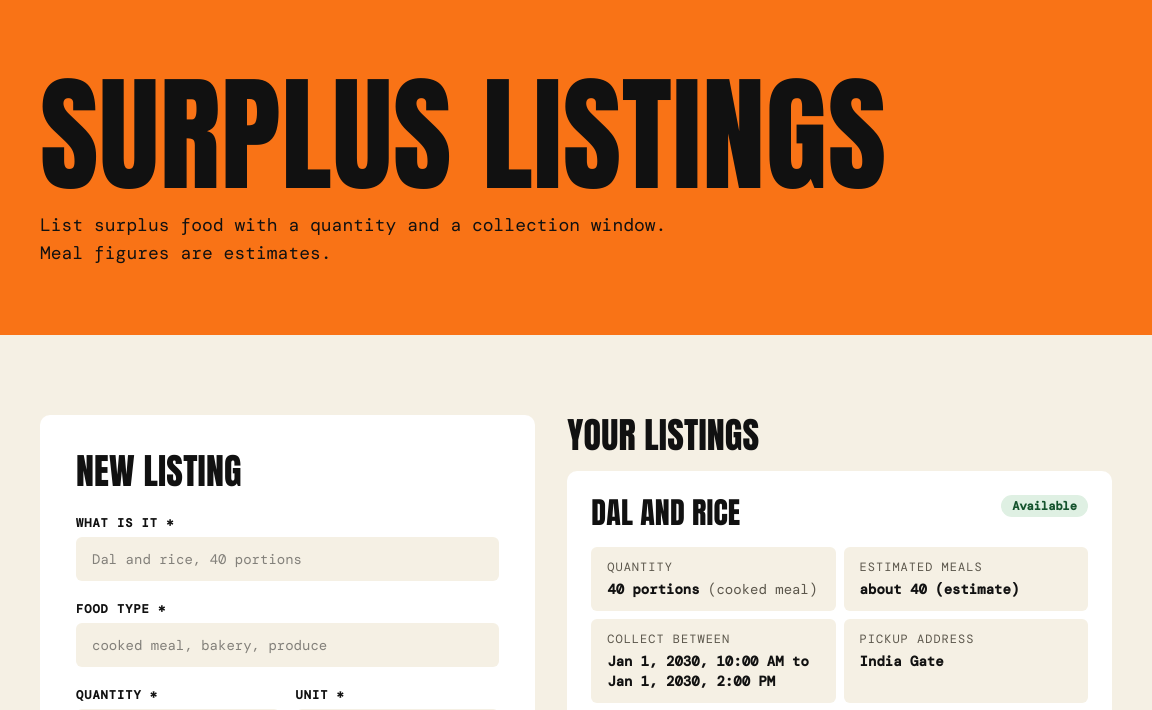
creating a listing › rejects out-of-range coordinates
Type "Rice" into the field labelled "What is it *".
click(288, 559); type("Rice")  # box [76,537,499,581]
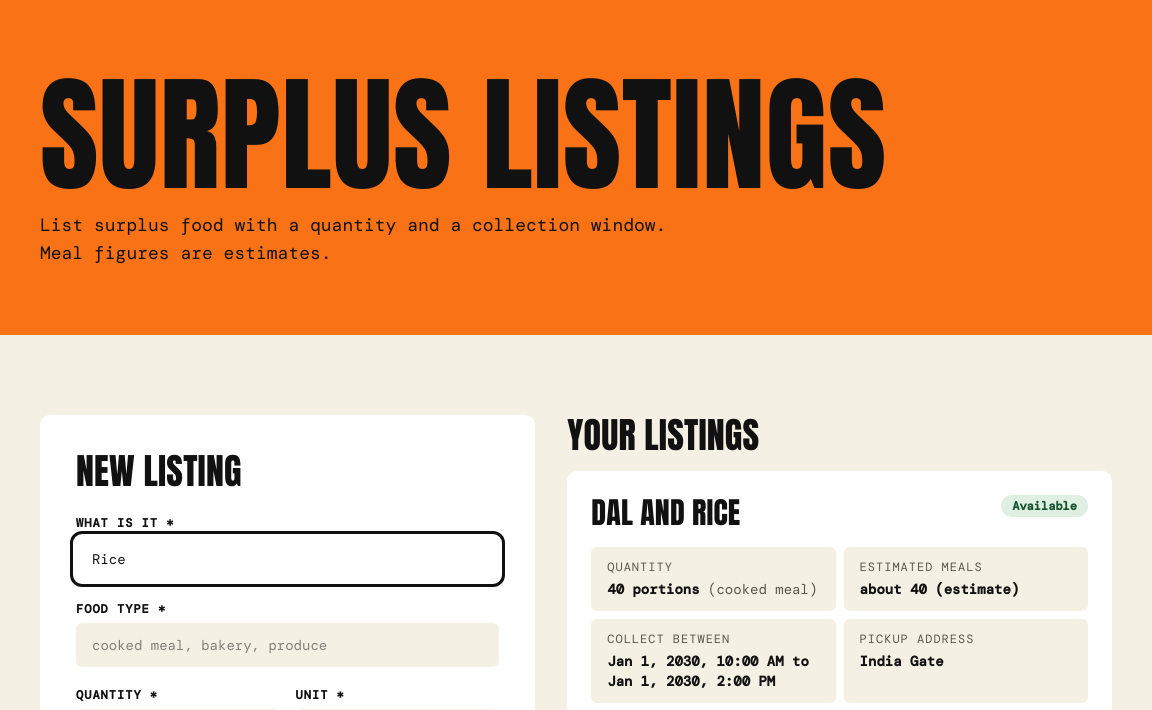
Type "cooked meal" into the field labelled "Food type *".
click(288, 645); type("cooked meal")  # box [76,623,499,667]
(page scrolled)
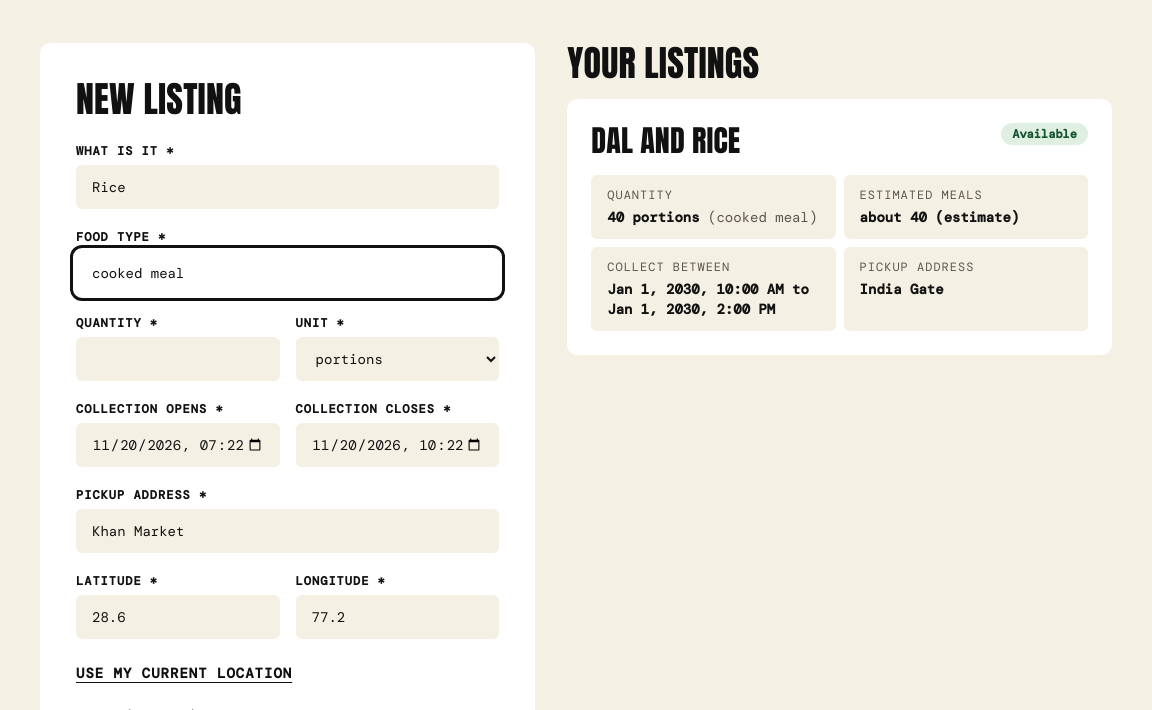
Type "10" into the number field labelled "Quantity *".
click(178, 359); type("10")  # box [76,337,280,381]
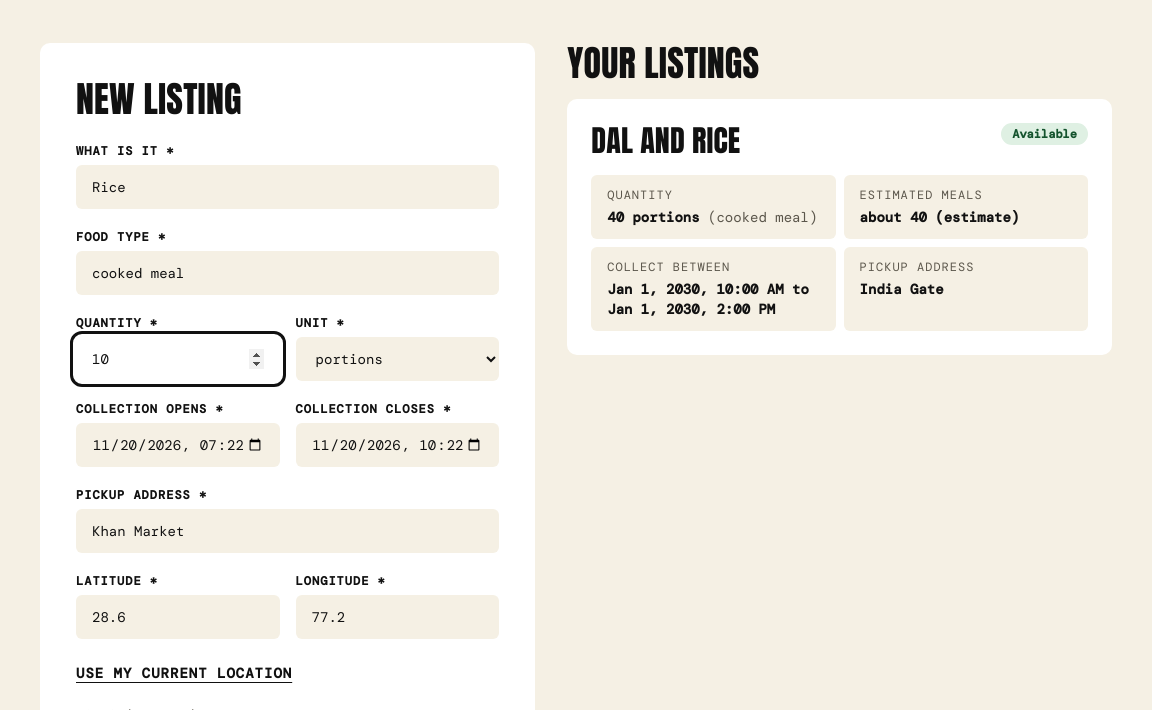
Replace the text in the field labelled "Latitude *" with "120" at (178, 617), box [76,595,280,639]
(page scrolled)
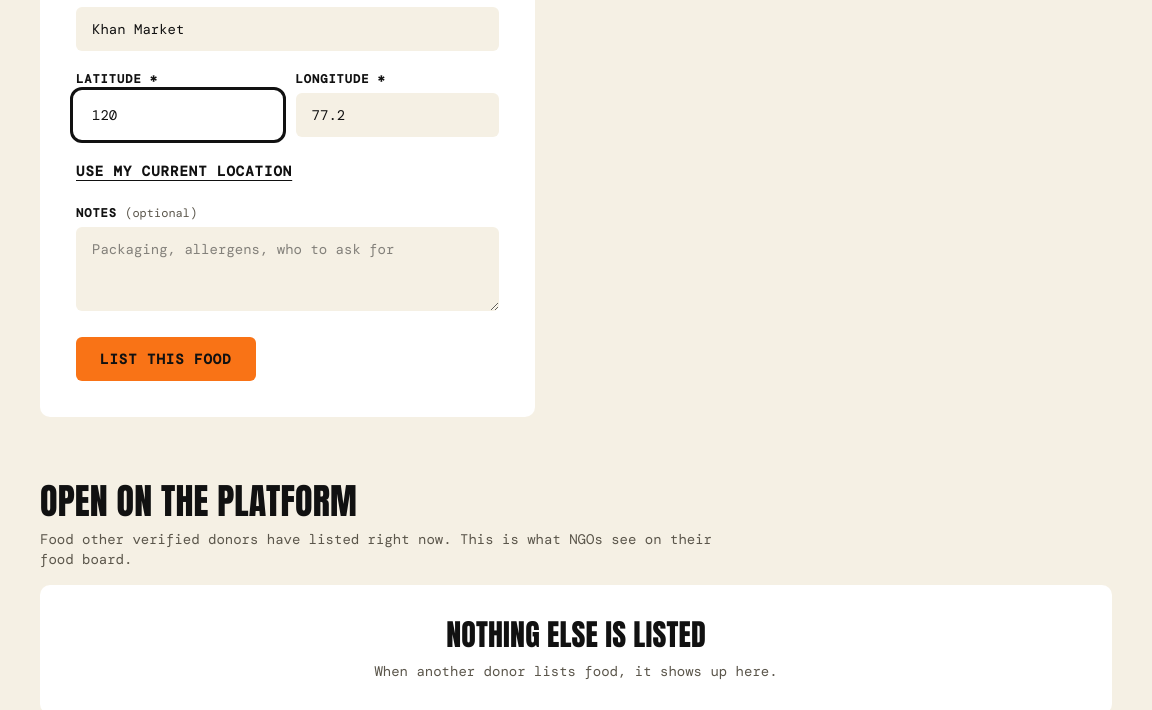
Click the button "List this food".
click(166, 359)  # box [76,337,256,381]
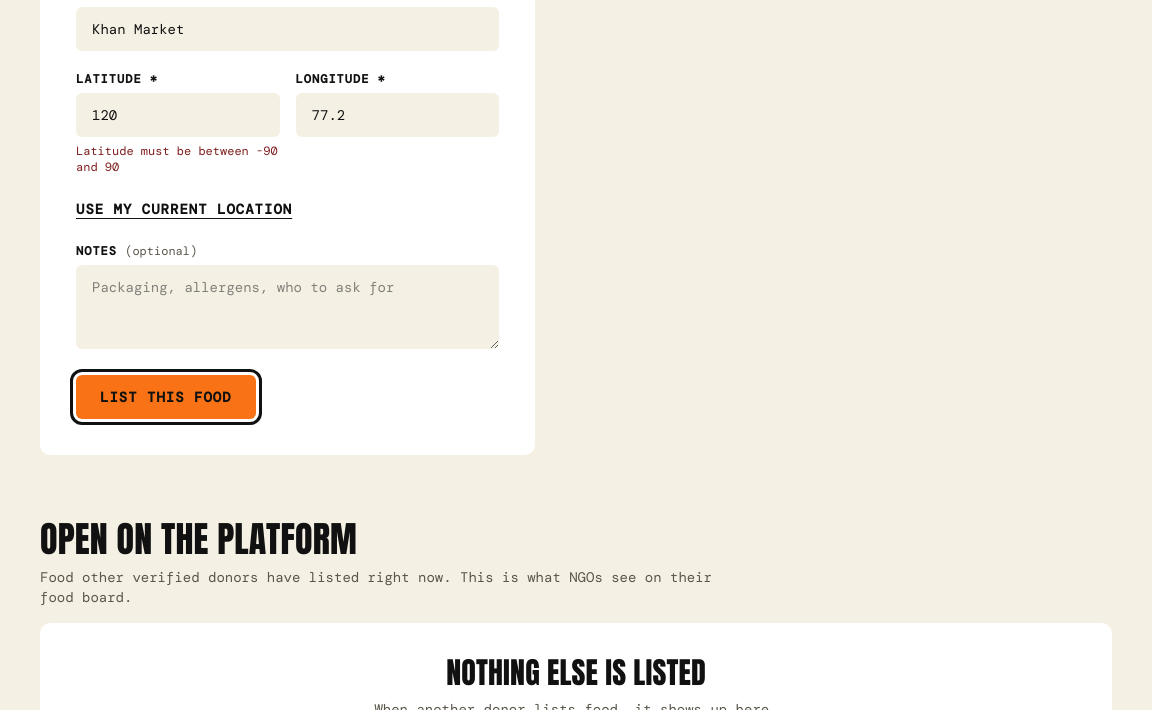
Result: the text "Latitude must be between -90 and 90" is shown at [76,143,280,175]
